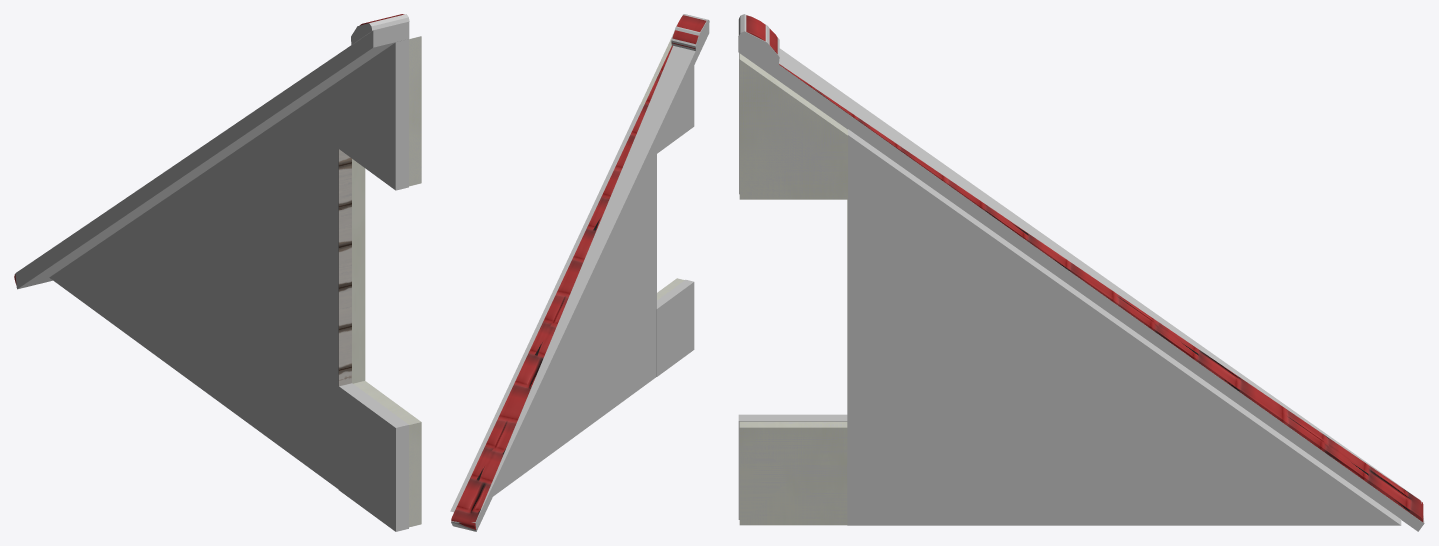
The model's file is SM_M01Roof01_2WindowTypeE.fbx.
The picture shows the model from 3 angles, left to right: view 1: azimuth 30°, elevation 25°; view 2: azimuth 150°, elevation 25°; view 3: azimuth 270°, elevation 25°; orthographic projection. The views are drawn at different scales.
Visible parts, largest first — view 1: SM_M01Roof01_2WindowTypeE_ConvexHulls, SM_M01Roof01_2WindowTypeE; view 2: SM_M01Roof01_2WindowTypeE_ConvexHulls, SM_M01Roof01_2WindowTypeE; view 3: SM_M01Roof01_2WindowTypeE_ConvexHulls, SM_M01Roof01_2WindowTypeE.
Boxes of the visible parts, <box> form: SM_M01Roof01_2WindowTypeE_ConvexHulls: <box>15,14,421,531</box>; SM_M01Roof01_2WindowTypeE: <box>14,14,421,527</box>; SM_M01Roof01_2WindowTypeE_ConvexHulls: <box>450,14,709,531</box>; SM_M01Roof01_2WindowTypeE: <box>451,15,706,529</box>; SM_M01Roof01_2WindowTypeE_ConvexHulls: <box>738,14,1424,531</box>; SM_M01Roof01_2WindowTypeE: <box>739,15,1423,525</box>.
Size of the model in its own units: 38.15 by 478 by 385.
4 materials, 3 textured.
